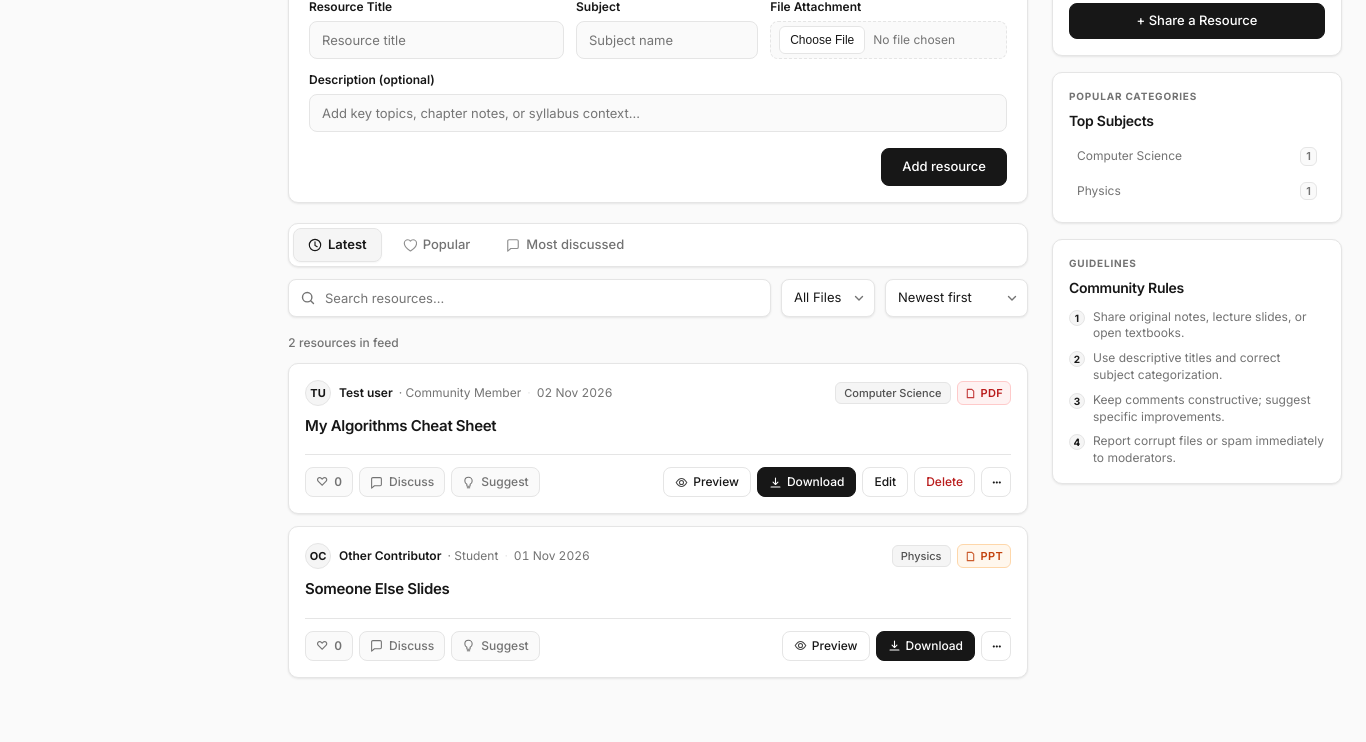
ResourceHub Universal Community Platform UI & Access Control › resource owner can delete their own resource using Database-First deletion, while non-owners cannot see Edit/Delete
(page scrolled)
Expected: the heading "My Algorithms Cheat Sheet" is shown, [305,416,496,435]
Expected: the heading "Someone Else Slides" is shown, [305,579,450,598]
What coordinates should you click on to do the following:
click the button with aria-label "delete my algorithms cheat sheet"
I would click on:
 (945, 482)
Its box is [914,467,975,497].
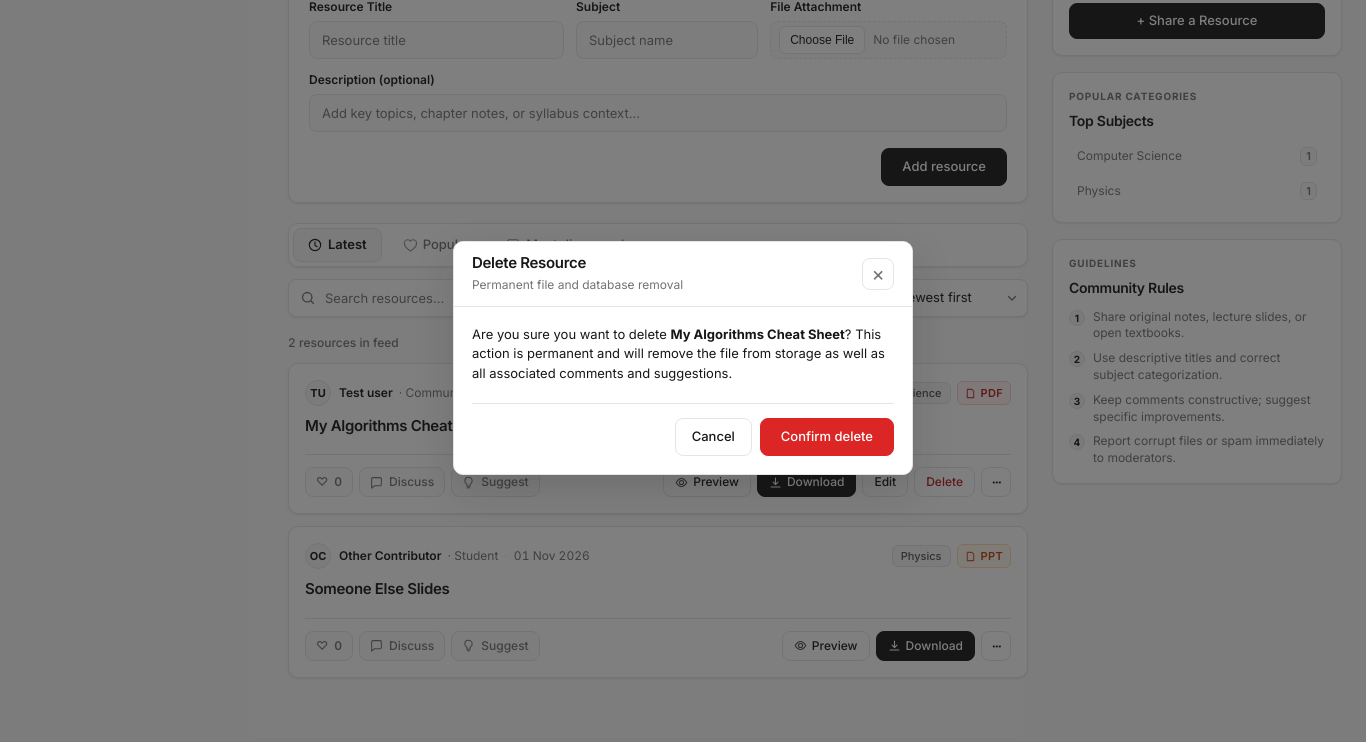
What coordinates should you click on to do the following:
click the button "Confirm delete"
I would click on:
 (827, 437)
Its box is [760,418,894,456].
(page scrolled)
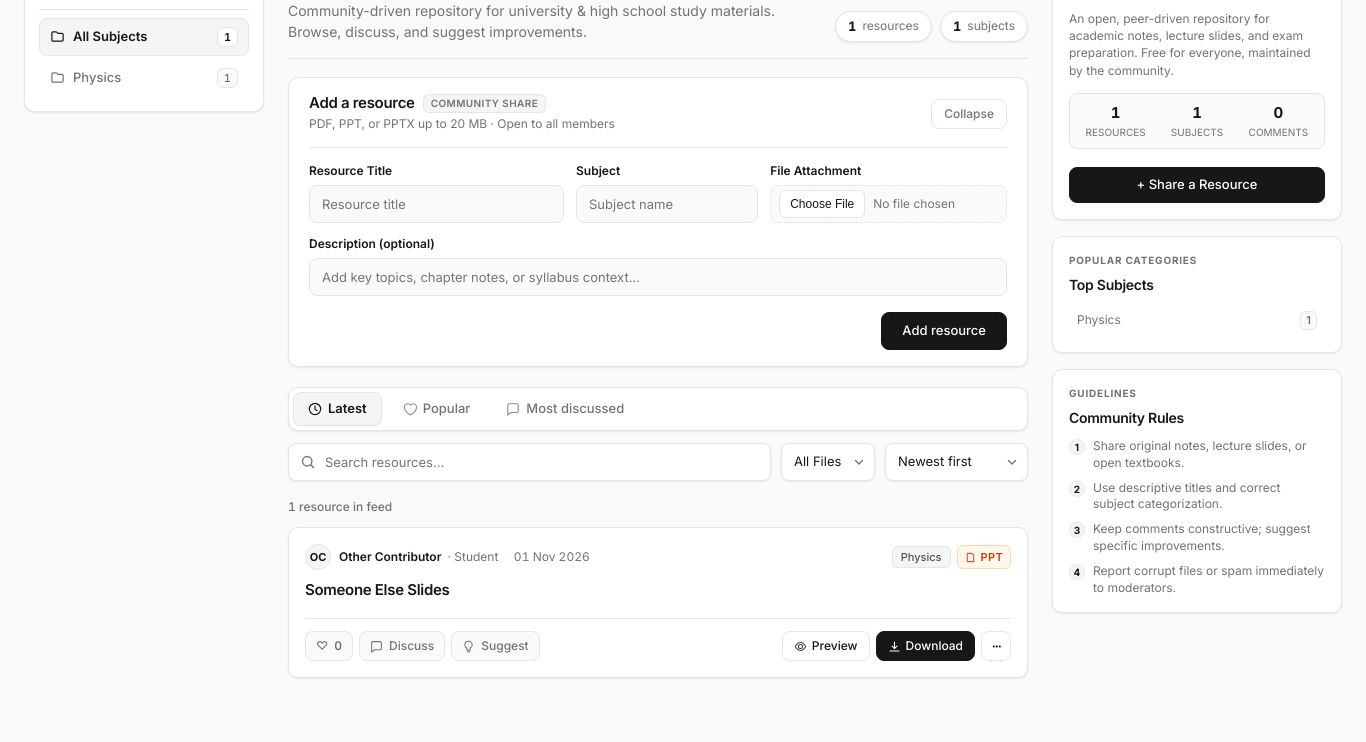
Result: the heading "My Algorithms Cheat Sheet" is gone
